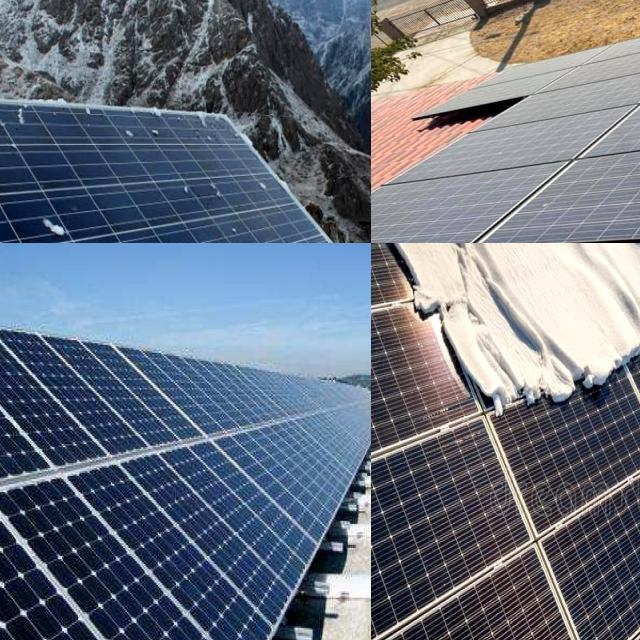crack: (0, 309, 371, 640)
panel: (443, 281, 585, 444), (371, 243, 436, 334), (598, 310, 640, 391), (28, 207, 88, 243), (116, 118, 176, 152), (167, 180, 244, 204), (371, 583, 402, 640), (4, 116, 62, 141), (189, 113, 229, 146), (260, 164, 283, 198), (371, 422, 378, 499), (0, 120, 23, 140)
